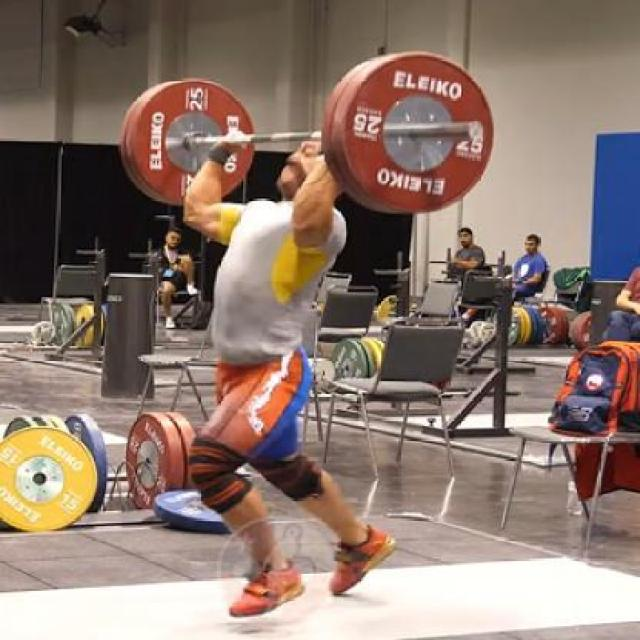barbell: (336, 49, 498, 216)
